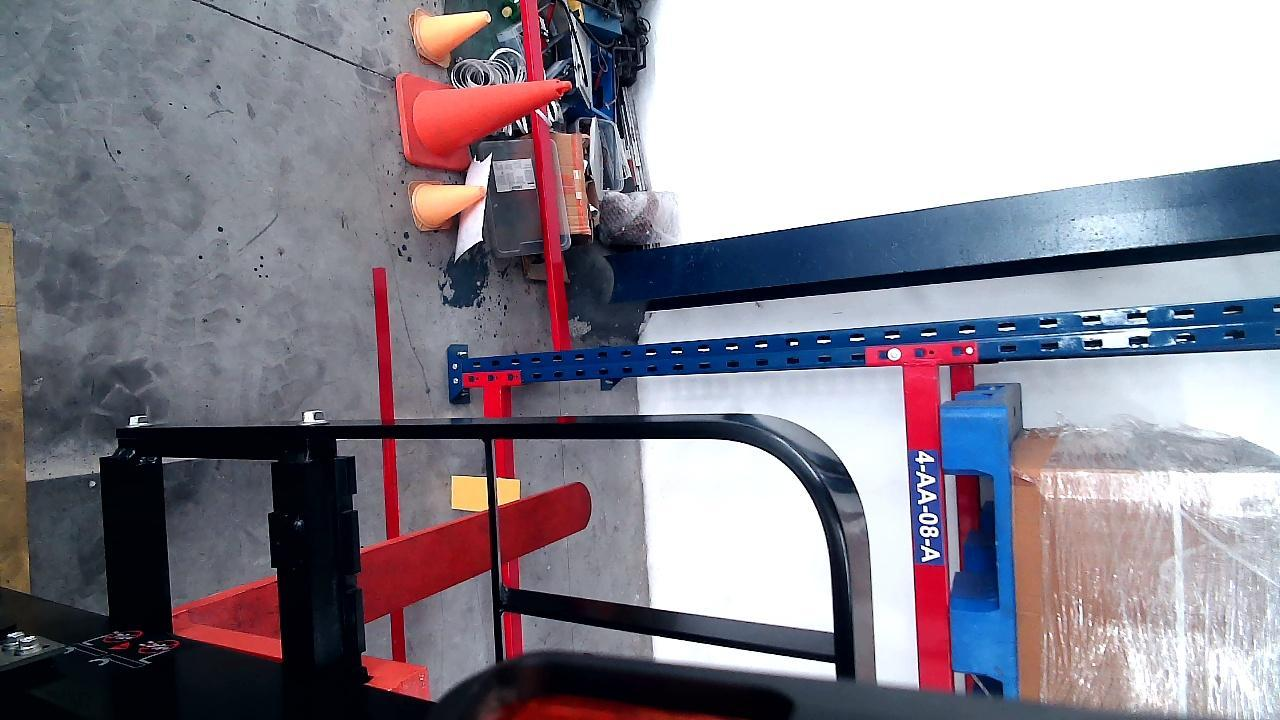red_line: (370, 272, 408, 659)
yellow_line: (1, 217, 31, 590)
